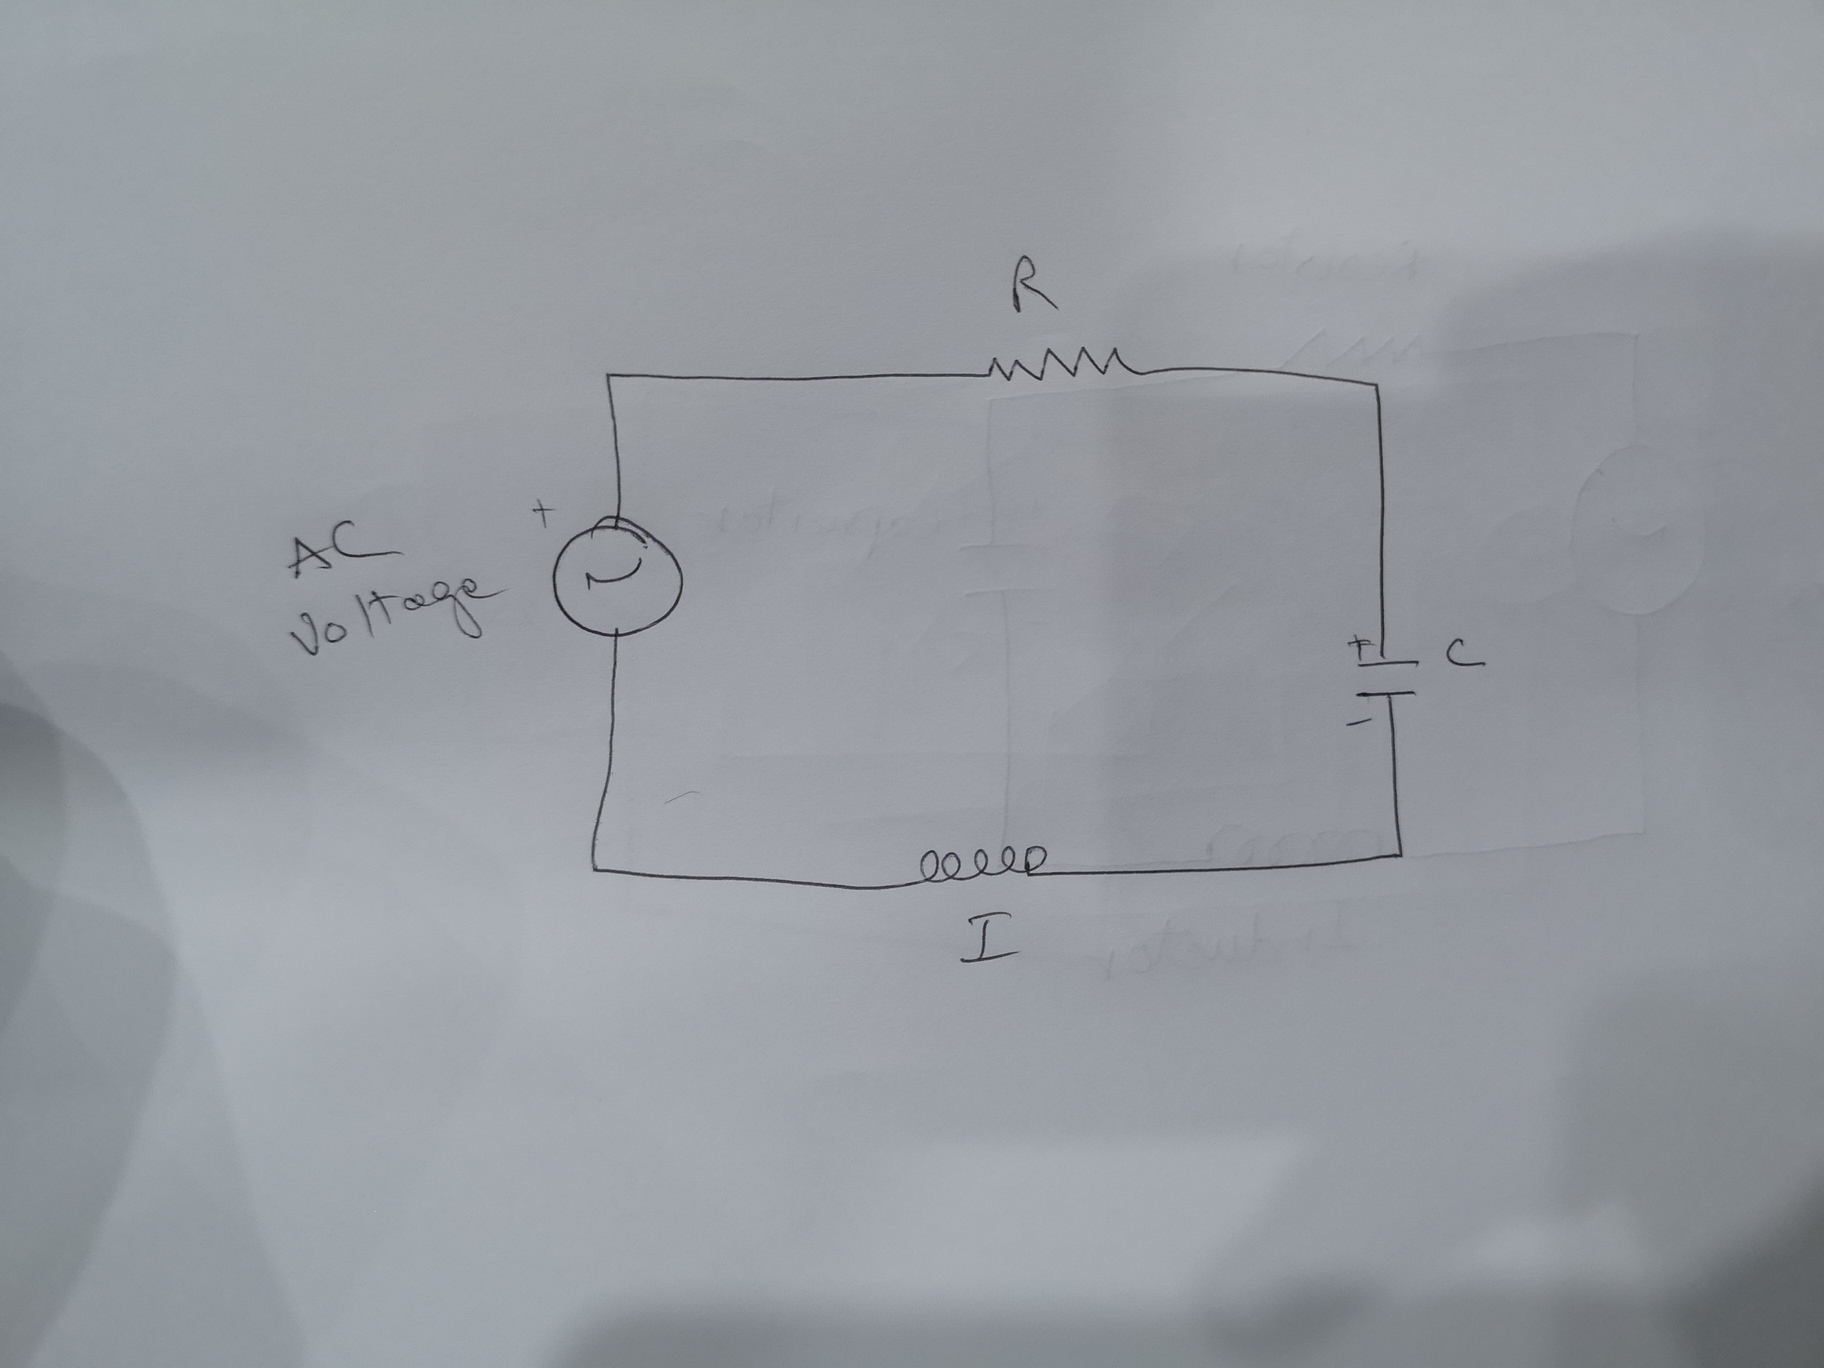capacitor.polarized: (1339, 632, 1423, 734)
inductor: (913, 841, 1050, 889)
junction: (1385, 836, 1413, 868), (582, 854, 609, 881), (597, 364, 623, 392), (1362, 374, 1387, 397)
resistor: (981, 343, 1145, 388)
text: (289, 572, 508, 665), (281, 513, 409, 581), (1002, 250, 1066, 323), (957, 907, 1024, 971), (1441, 632, 1489, 675)
voltage.dc: (529, 494, 689, 639)
